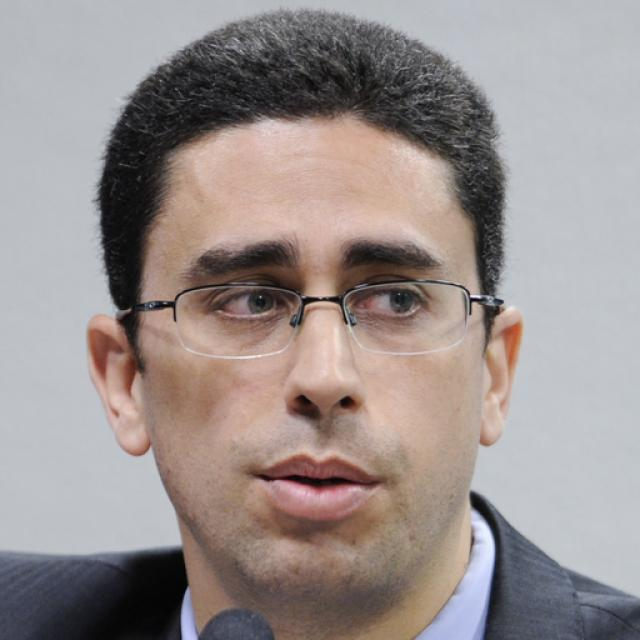neutral: (142, 107, 486, 598)
